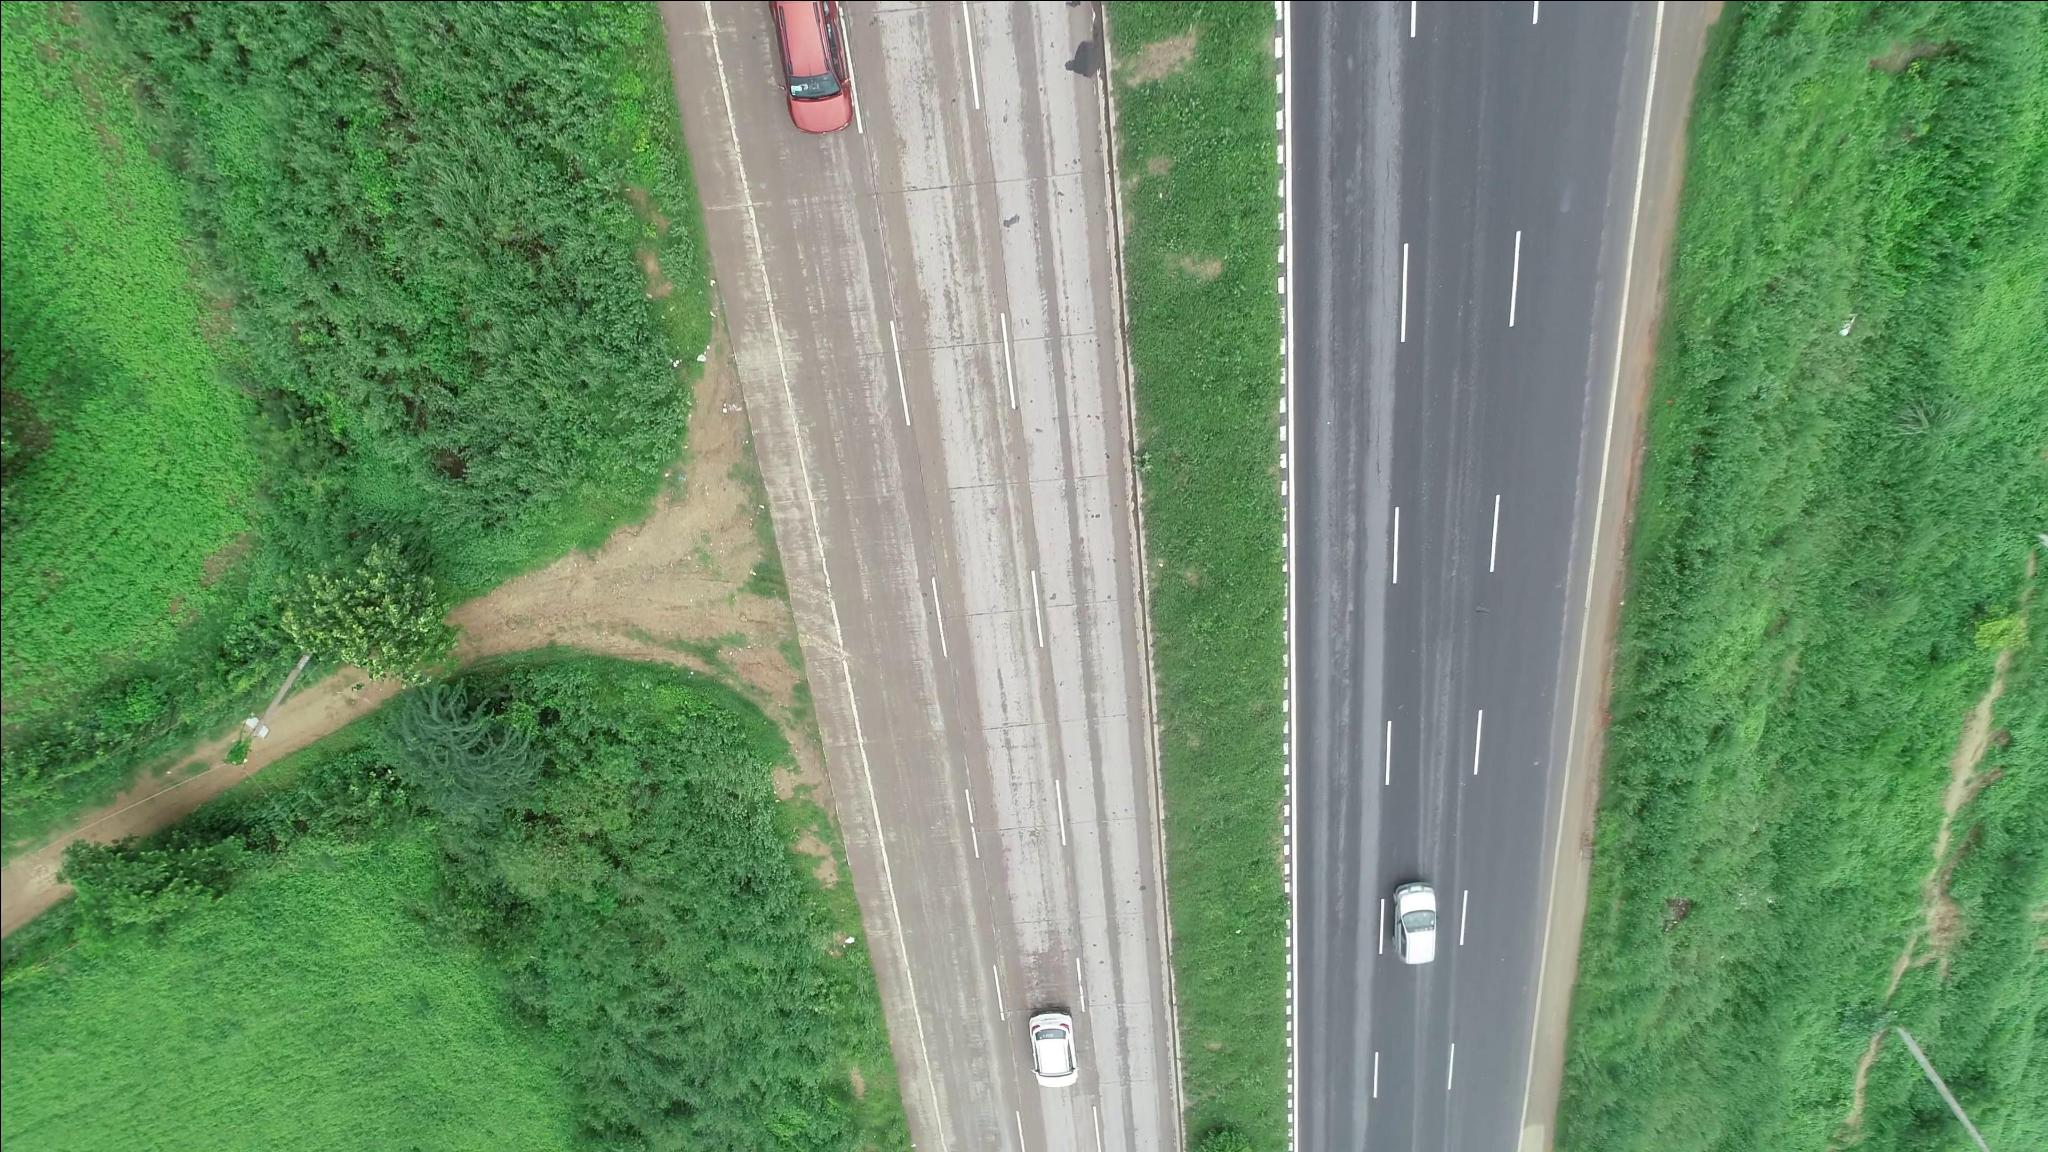Cracks: (1367, 141, 1400, 480)
